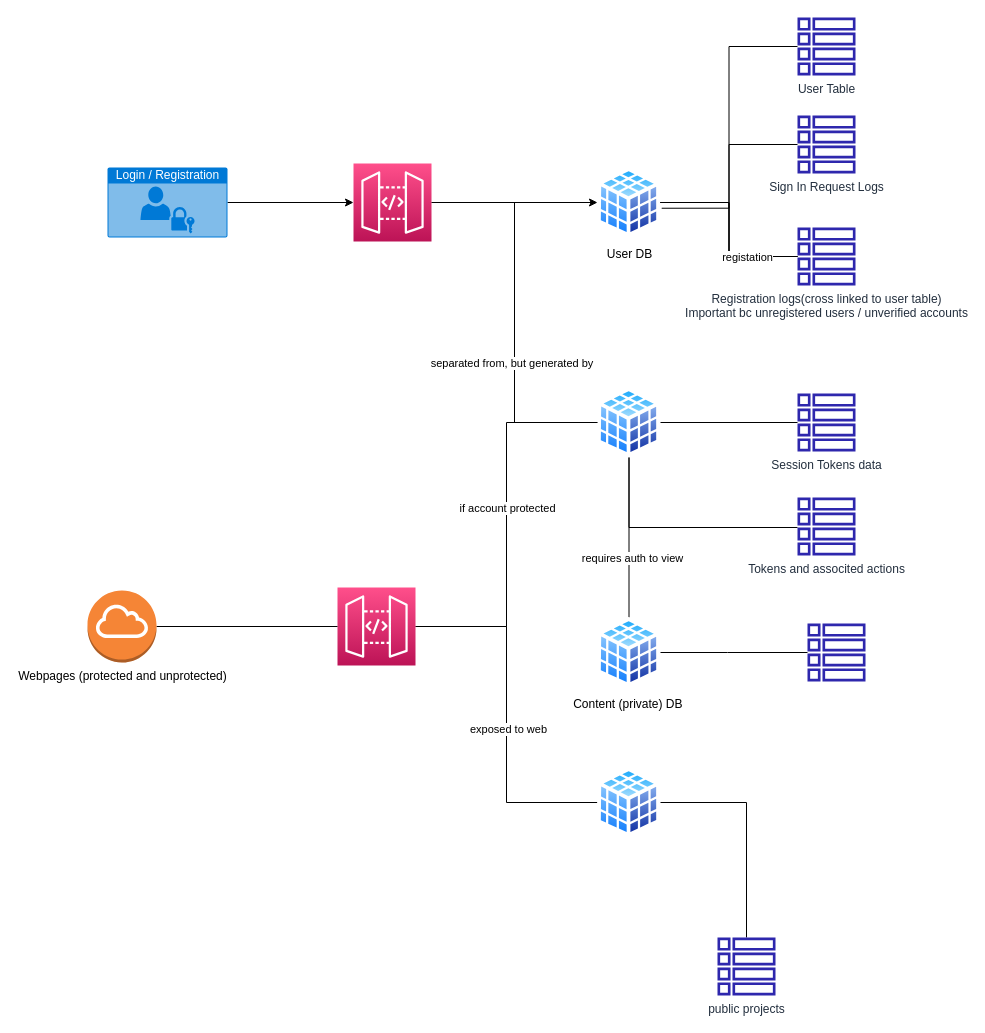
The diagram is 985 pixels wide and 1033 high, and some of its shapes have lost their labels. Each missing label, with the centre of its shape:
API Login/ Registration Gateway: point 392,202
Content (public) DB: point 628,802
drafts / private projects: point 836,652
Session API: point 376,626
Session DB: point 628,422
